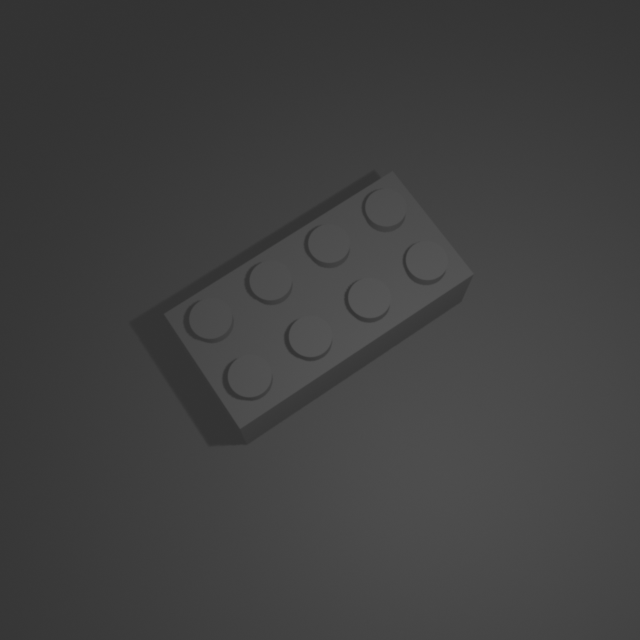lego_2x4: (161, 165, 476, 445)
